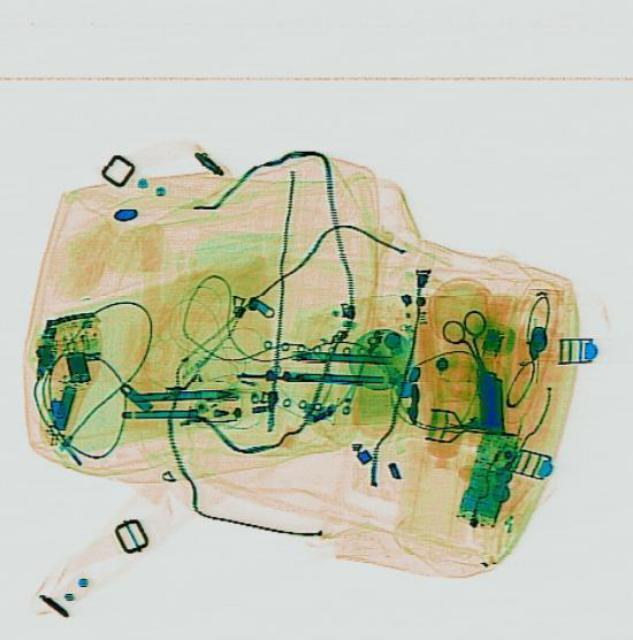Scissors: (436, 306, 502, 378)
